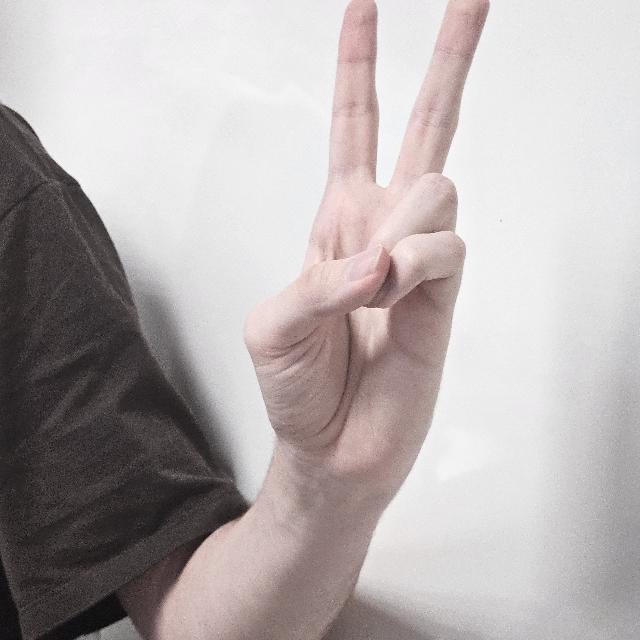Triangulo: (245, 0, 489, 534)
